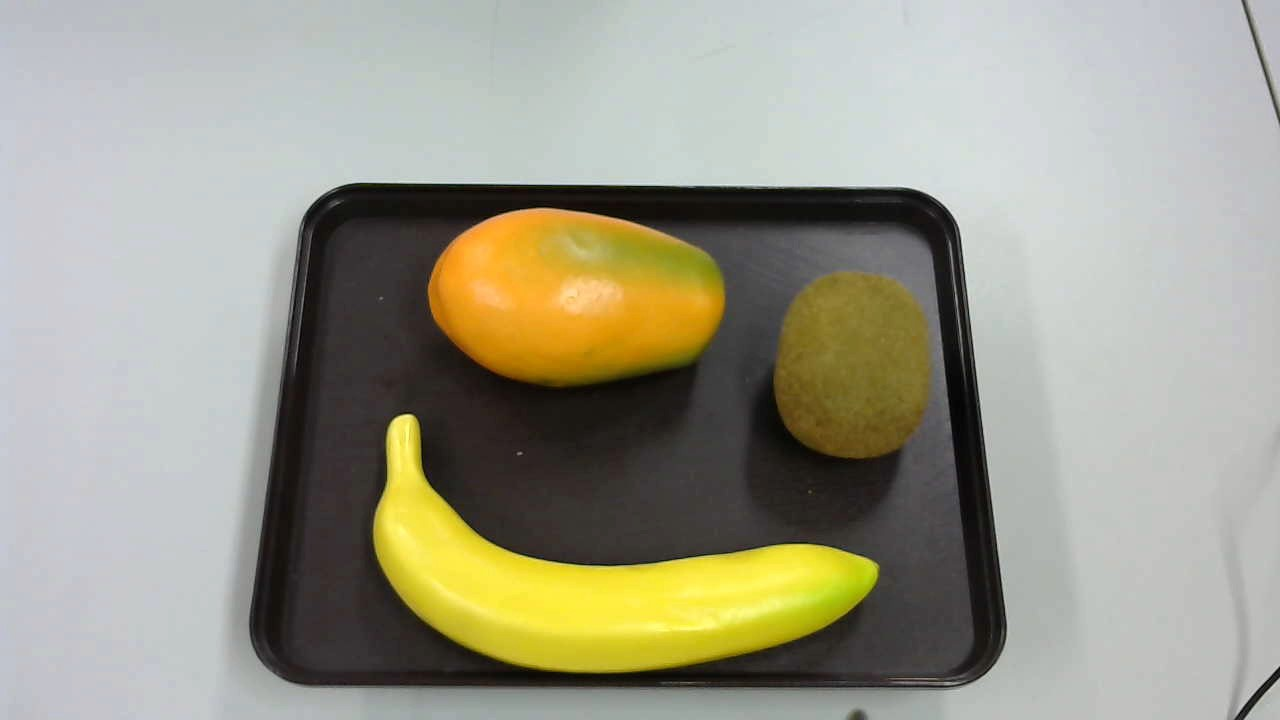banana: (372, 412, 883, 668)
kiwi fruit: (772, 264, 935, 464)
papya: (423, 201, 734, 399)
